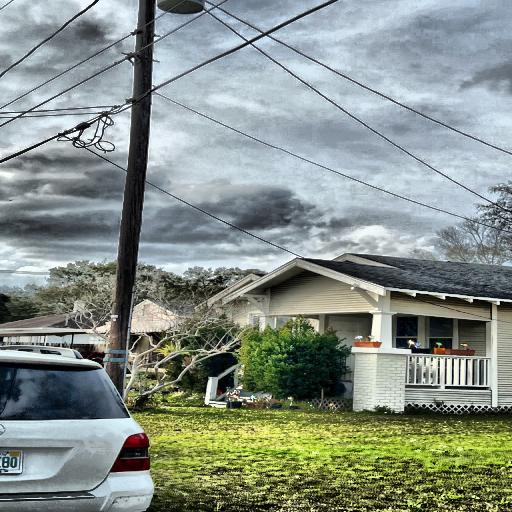pole: (89, 0, 170, 404)
transformer: (156, 0, 214, 18)
